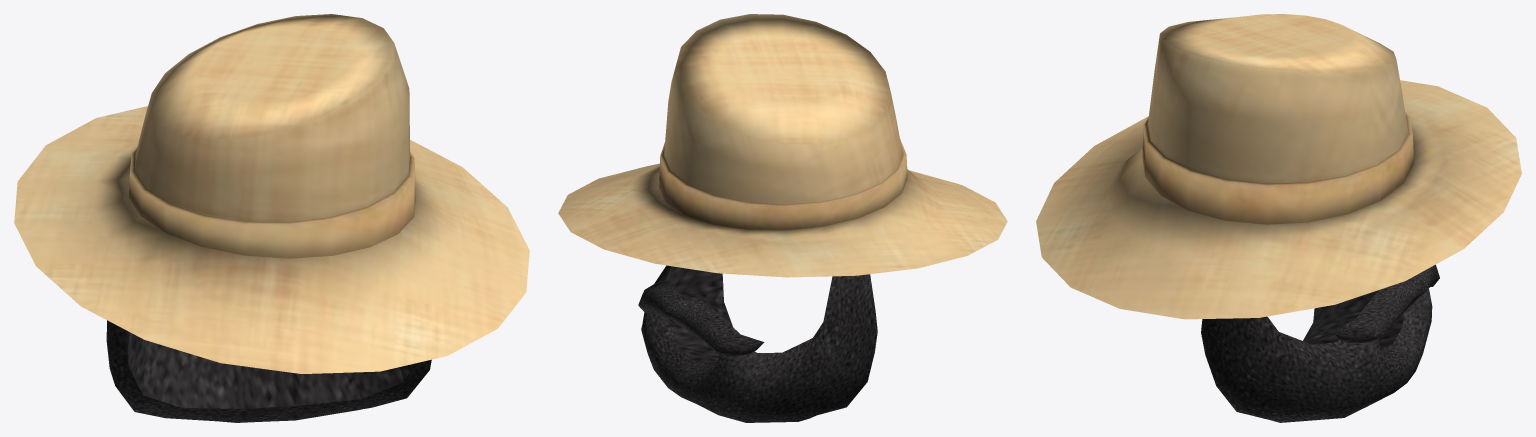
Rendered from acc.glb.
The picture shows the model from 3 angles, left to right: view 1: azimuth 30°, elevation 25°; view 2: azimuth 150°, elevation 25°; view 3: azimuth 270°, elevation 25°; orthographic projection. The views are drawn at different scales.
Visible parts, largest first — view 1: Handle, Handle.001; view 2: Handle, Handle.001; view 3: Handle, Handle.001.
Boxes of the visible parts, x1,y1,x2,y2 form: Handle: (14, 14, 529, 373); Handle.001: (106, 320, 431, 422); Handle: (558, 14, 1007, 277); Handle.001: (638, 265, 877, 422); Handle: (1036, 14, 1521, 319); Handle.001: (1201, 264, 1439, 422).
Size of the model in its own units: 2.12 by 1.77 by 2.1.
2 materials, 2 textured.
